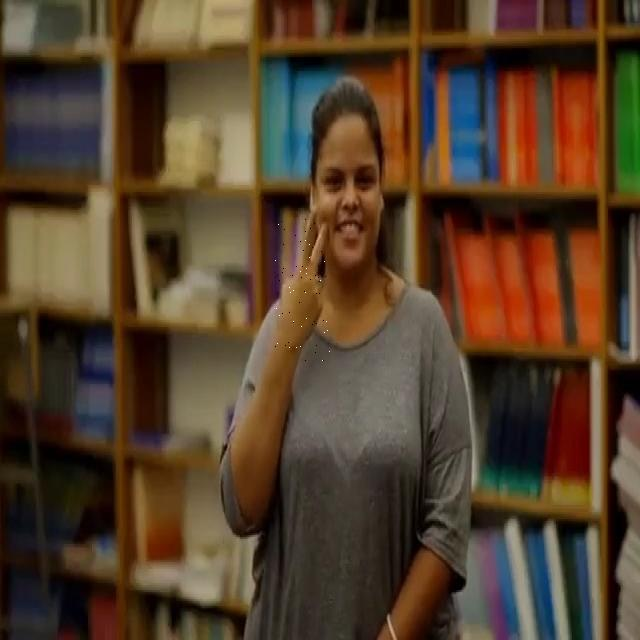vegetables: (275, 206, 330, 362)
